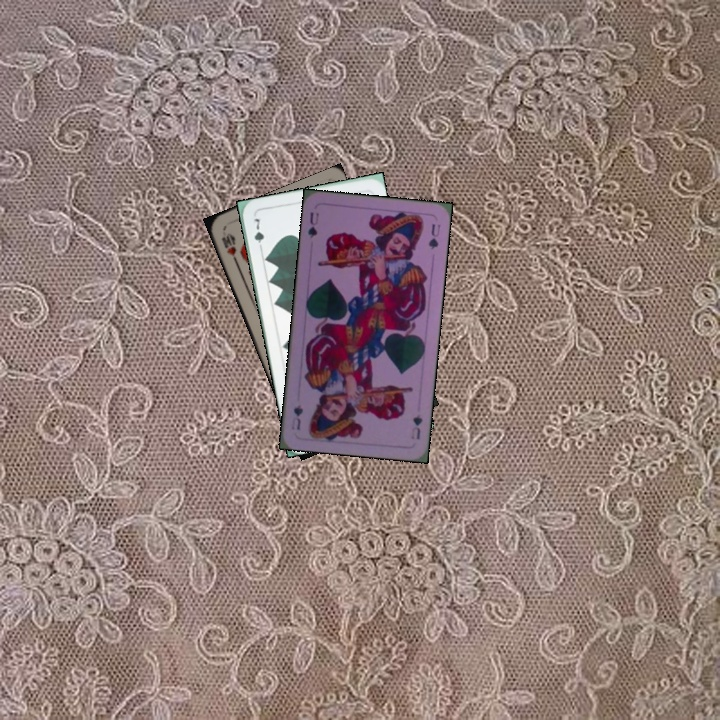G7: (249, 214, 267, 253)
GU: (407, 410, 425, 442), (304, 208, 321, 240)
H10: (217, 229, 240, 266)
